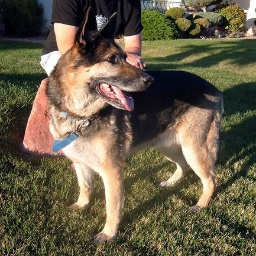dog: (46, 8, 224, 233)
